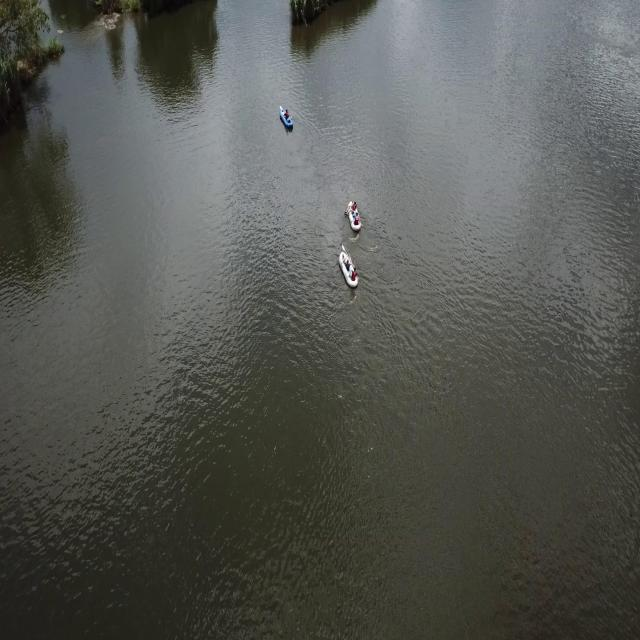kayak: (335, 241, 359, 289), (344, 195, 364, 234), (278, 103, 294, 132)
